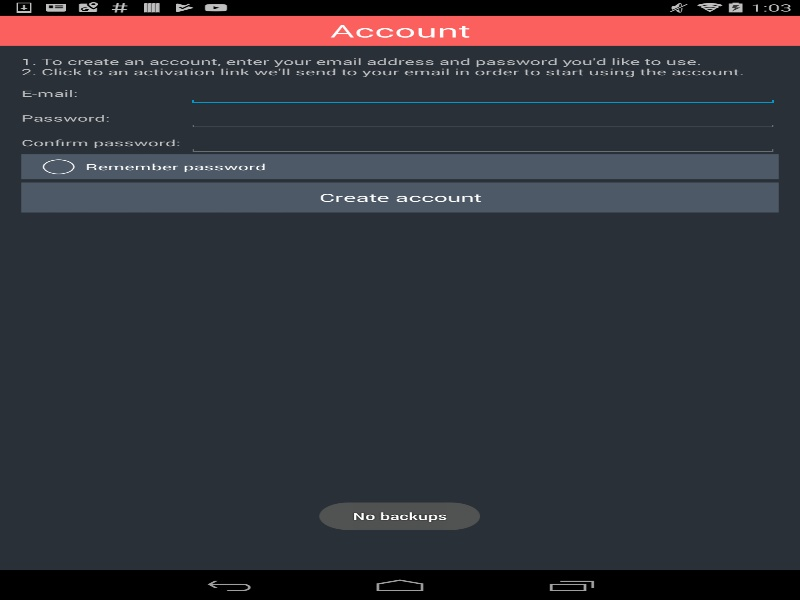Button: (21, 182, 778, 212)
Input: (187, 80, 778, 105), (187, 129, 778, 154), (187, 105, 778, 129)
